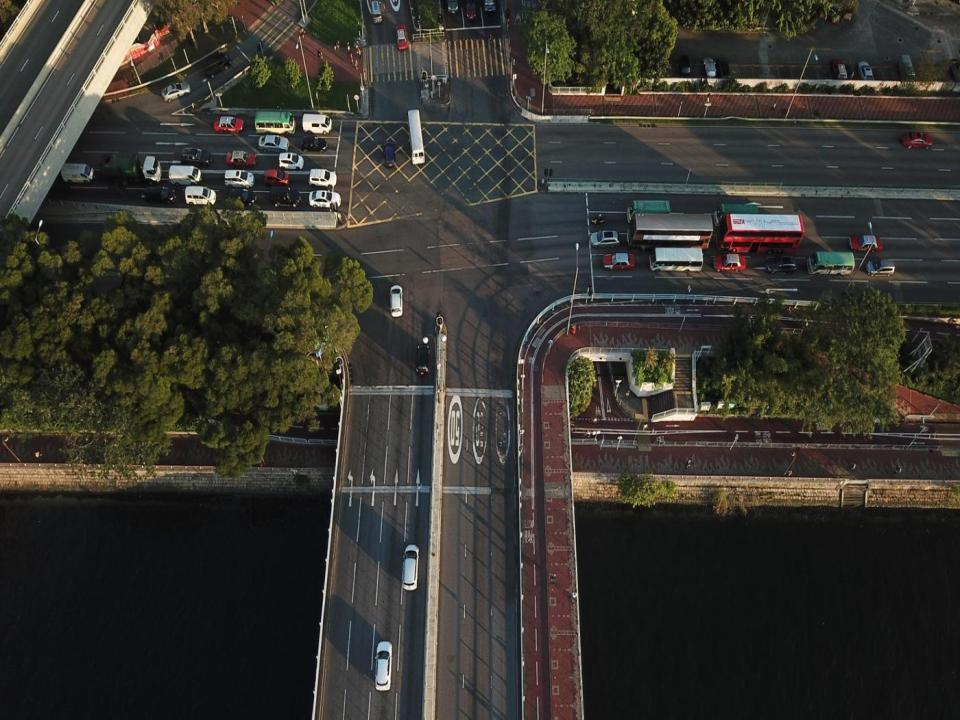bus: (714, 213, 804, 252), (627, 215, 712, 252), (649, 247, 704, 271), (807, 251, 854, 274), (255, 109, 296, 134), (626, 198, 670, 221), (407, 109, 425, 165), (714, 204, 758, 226), (897, 54, 915, 84)
car: (374, 640, 392, 692), (161, 80, 190, 103), (766, 255, 797, 276), (180, 146, 212, 166), (309, 189, 342, 208), (714, 253, 746, 271), (214, 115, 244, 134), (590, 230, 620, 249), (902, 131, 933, 149), (310, 168, 338, 187), (849, 235, 882, 251), (227, 150, 256, 168), (603, 252, 635, 268), (147, 186, 177, 203), (228, 188, 256, 206), (301, 134, 327, 153), (389, 285, 404, 317), (258, 136, 290, 150), (416, 346, 432, 374), (264, 169, 290, 186), (278, 153, 304, 170), (832, 57, 847, 86), (858, 60, 874, 87), (678, 54, 692, 83), (867, 260, 894, 275), (384, 140, 396, 168), (717, 58, 731, 82), (396, 24, 408, 51), (704, 58, 715, 82), (464, 0, 477, 20), (447, 0, 459, 14)
truck: (101, 152, 162, 184), (60, 162, 95, 182)
van: (402, 544, 419, 590), (168, 165, 202, 184), (204, 52, 231, 75), (185, 186, 215, 206), (302, 114, 332, 132), (224, 171, 255, 188), (370, 0, 383, 24)
